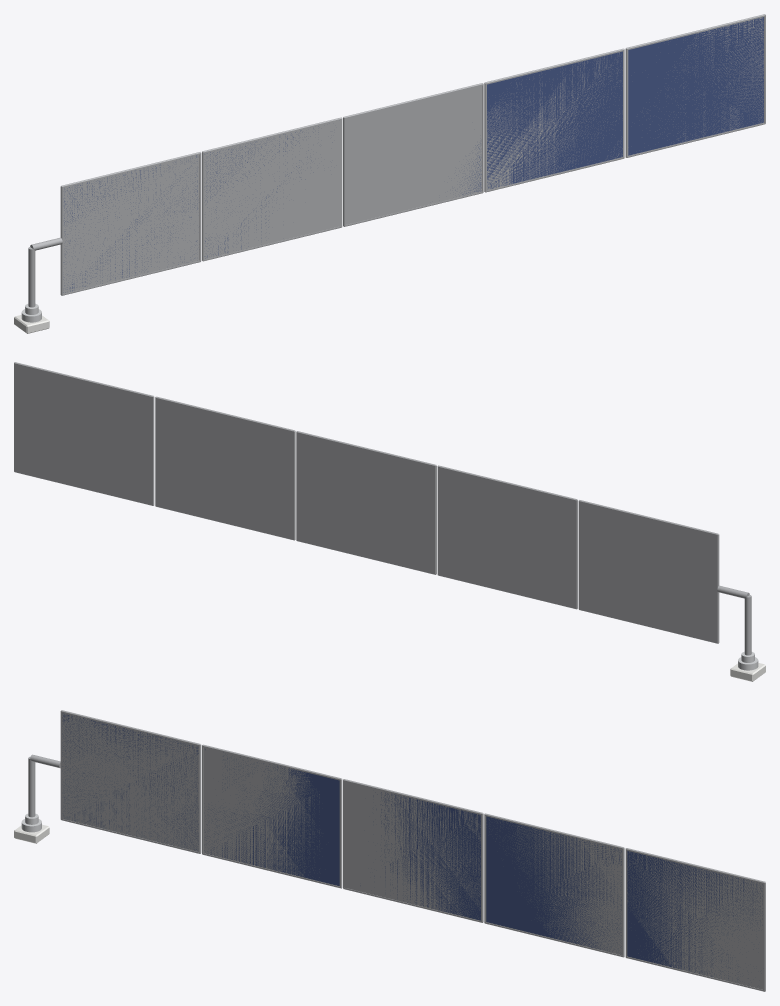
Rendered from ax_power_02_rigid_wing_l_deployed.glb.
3 views of the same model, one above another, from view 1: azimuth 30°, elevation 25°; view 2: azimuth 150°, elevation 25°; view 3: azimuth 330°, elevation 25° (orthographic).
Visible parts, largest first — view 1: panel_1, panel_2, panel_3, panel_5_cells, panel_4_cells, panel_4, panel_5, panel_1_cells, yoke; view 2: panel_1, panel_5, panel_2, panel_3, panel_4, yoke; view 3: panel_1, panel_3, panel_5, panel_4_cells, panel_2, panel_4, panel_5_cells, panel_2_cells, panel_3_cells, panel_1_cells, yoke.
Part boxes in pixels (<box>): panel_1: <box>60,152,201,295</box>; panel_2: <box>202,117,342,261</box>; panel_3: <box>343,83,483,226</box>; panel_5_cells: <box>628,17,763,155</box>; panel_4_cells: <box>487,51,622,188</box>; panel_4: <box>484,48,624,192</box>; panel_5: <box>625,14,765,157</box>; panel_1_cells: <box>63,155,197,292</box>; yoke: <box>28,237,62,307</box>; panel_1: <box>578,500,719,643</box>; panel_5: <box>14,362,154,505</box>; panel_2: <box>437,465,577,609</box>; panel_3: <box>296,431,436,574</box>; panel_4: <box>155,396,295,540</box>; yoke: <box>717,585,751,655</box>; panel_1: <box>60,710,201,853</box>; panel_3: <box>343,779,483,922</box>; panel_5: <box>625,848,765,991</box>; panel_4_cells: <box>486,816,621,951</box>; panel_2: <box>202,744,342,888</box>; panel_4: <box>484,813,624,957</box>; panel_5_cells: <box>627,851,762,979</box>; panel_2_cells: <box>204,749,339,885</box>; panel_3_cells: <box>360,792,480,920</box>; panel_1_cells: <box>62,713,198,851</box>; yoke: <box>28,754,60,817</box>.
Size of the model in its own units: 12.78 by 2.19 by 0.4.
